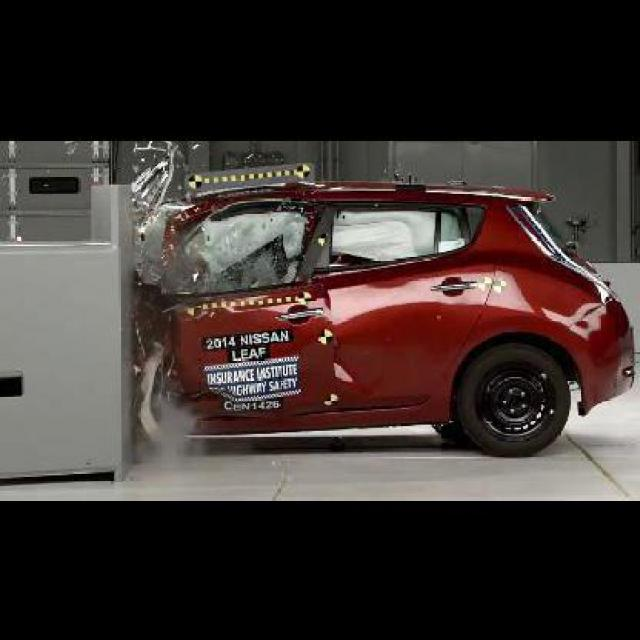accident: (0, 158, 635, 483)
